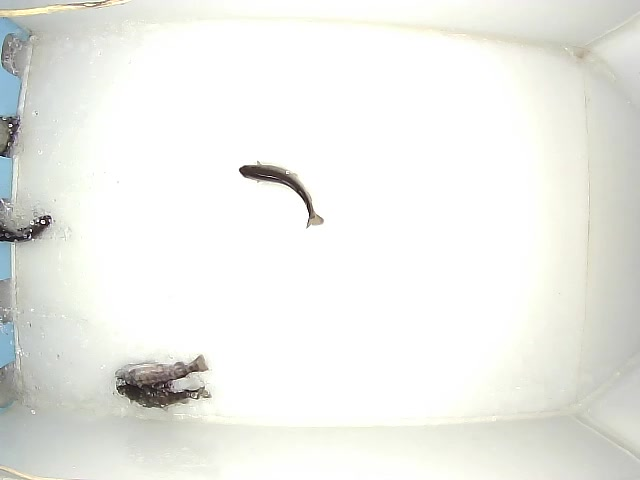fish: (238, 160, 325, 231), (114, 352, 213, 388), (115, 381, 213, 413)
